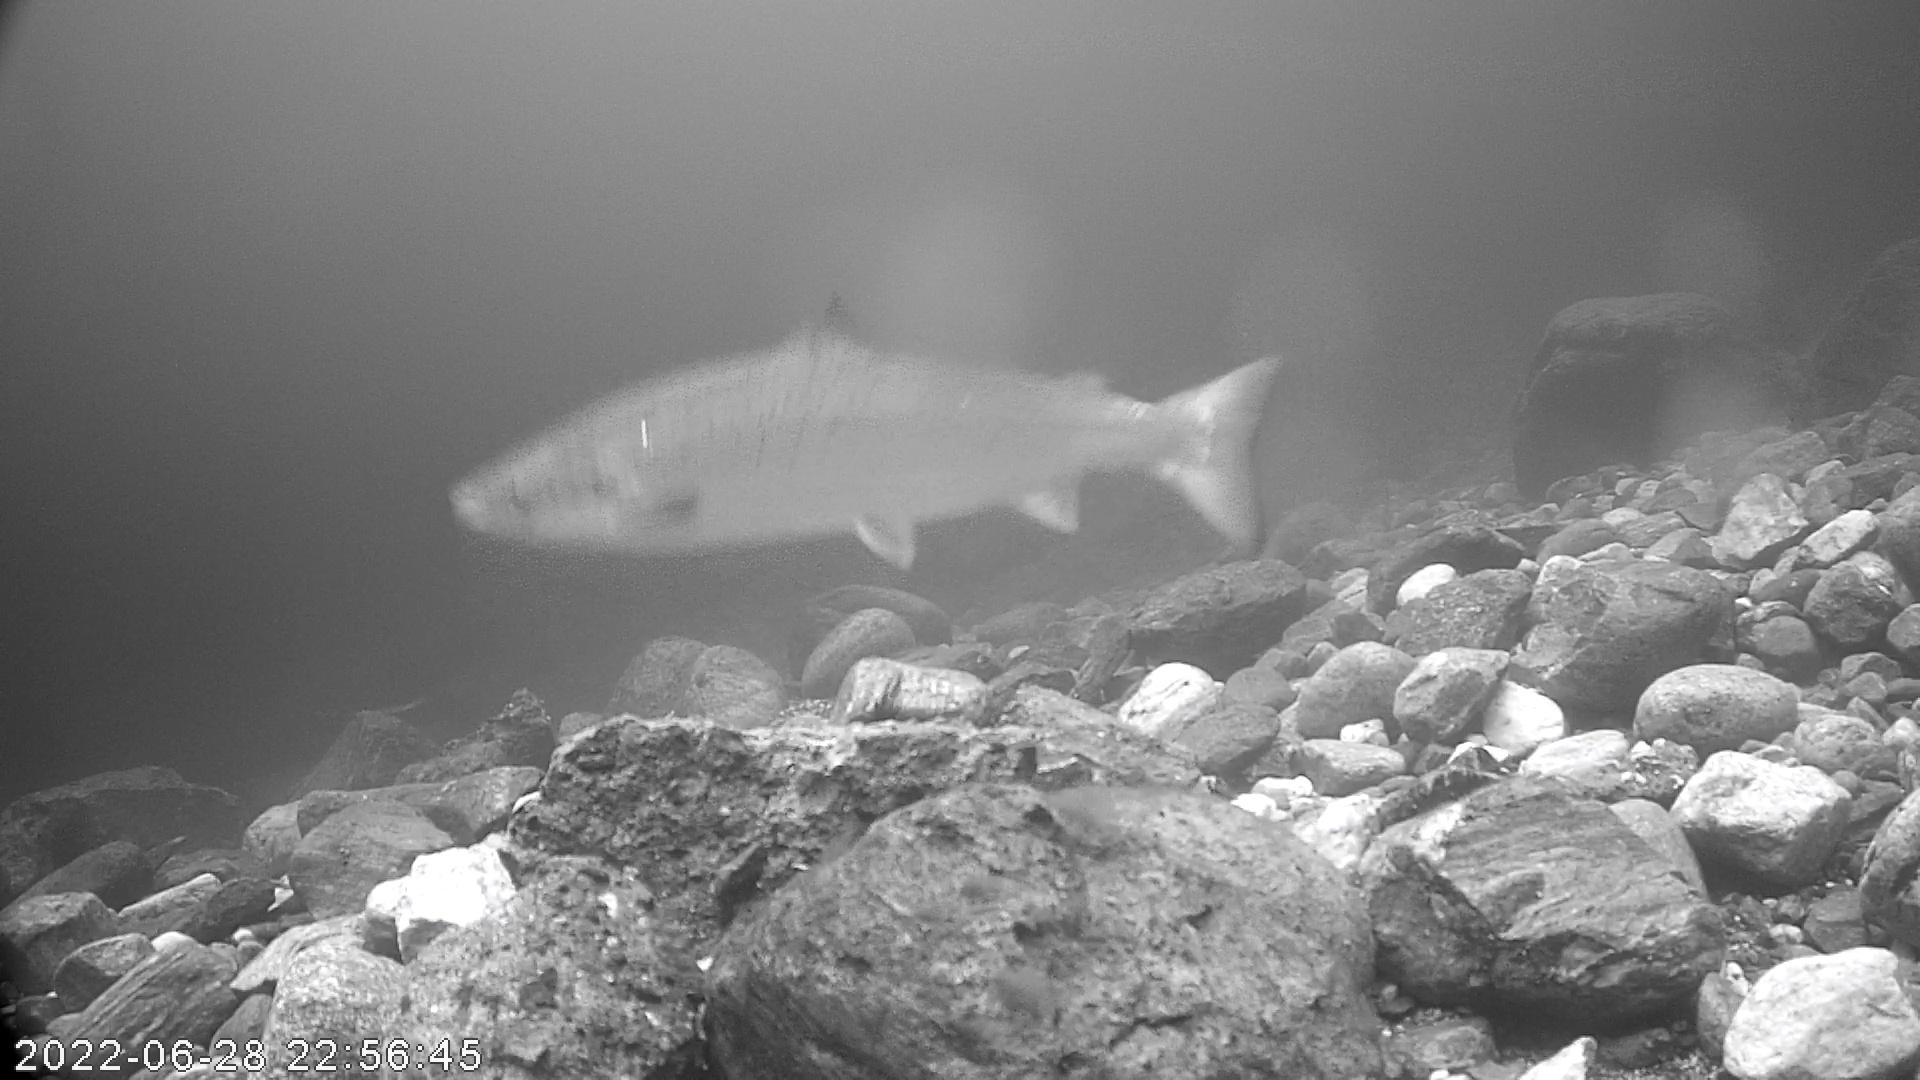salmon: (446, 196, 1311, 629)
